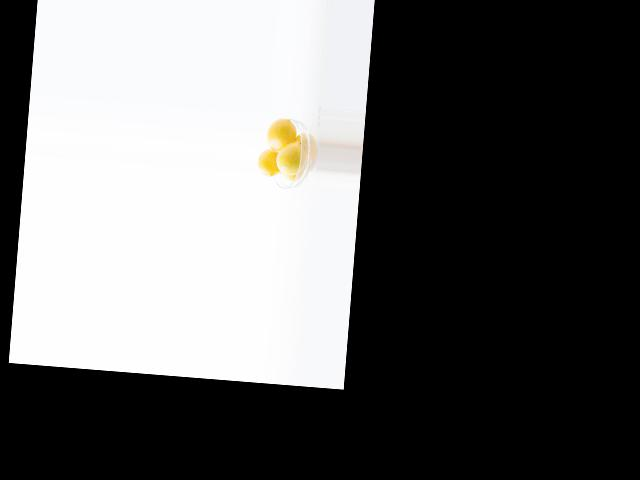lemon: (265, 115, 293, 153)
